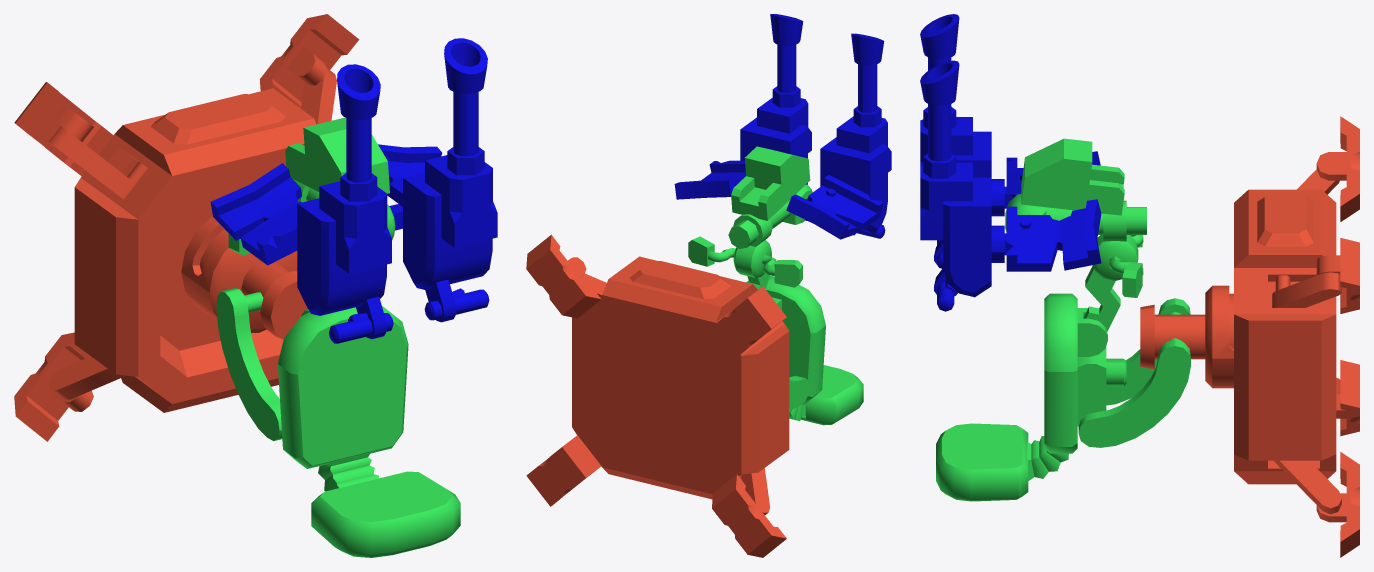
Rendered from obj_interactive_turret_base.fbx.
3 views of the same model, side by side, from view 1: azimuth 30°, elevation 25°; view 2: azimuth 150°, elevation 25°; view 3: azimuth 270°, elevation 25° (orthographic). The views are drawn at different scales.
Visible parts, largest first — view 1: obj_interactive_turret_base_lp; view 2: obj_interactive_turret_base_lp; view 3: obj_interactive_turret_base_lp.
Part boxes in pixels (box(x1,y1,x2,y2)): obj_interactive_turret_base_lp: box(14, 14, 497, 557); obj_interactive_turret_base_lp: box(526, 14, 891, 557); obj_interactive_turret_base_lp: box(920, 14, 1359, 557).
Bounding box in the file's own units: 6.89 × 8.58 × 9.82.
